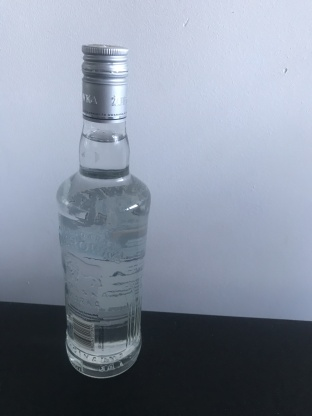nakretka: (79, 41, 129, 124)
